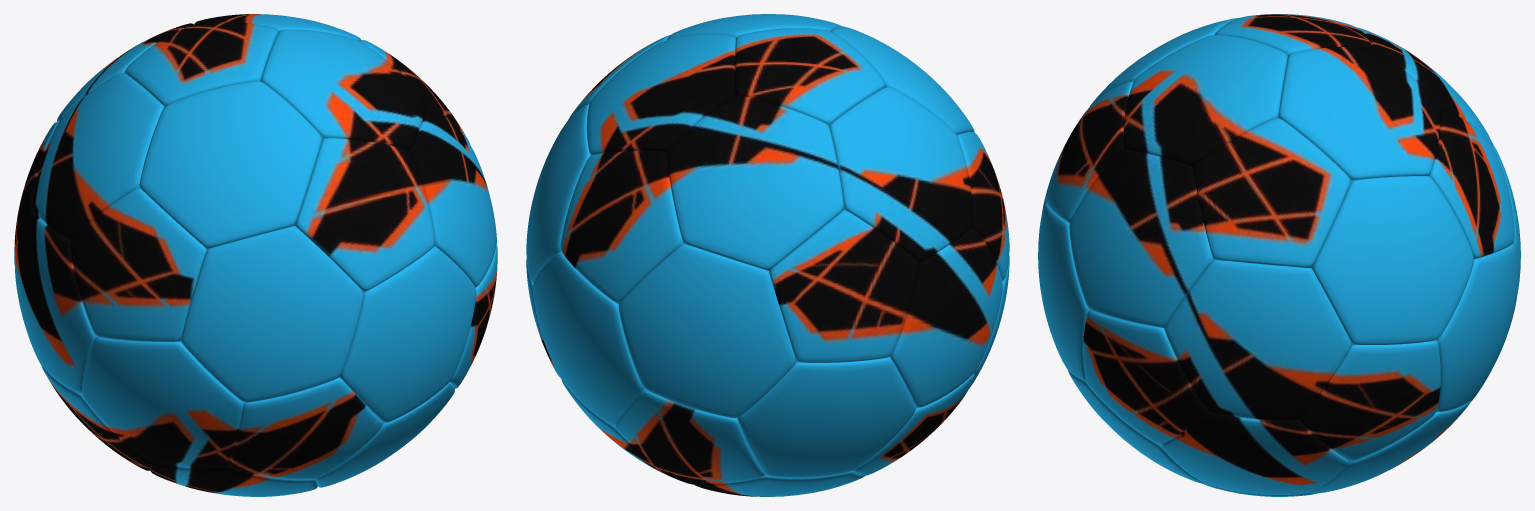
The model's file is BlueBall.glb.
The picture shows the model from 3 angles, left to right: view 1: azimuth 30°, elevation 25°; view 2: azimuth 150°, elevation 25°; view 3: azimuth 270°, elevation 25°; orthographic projection.
Visible parts, largest first — view 1: soccer_ball; view 2: soccer_ball; view 3: soccer_ball.
Boxes of the visible parts, x1,y1,x2,y2 form: soccer_ball: (14,14,497,496); soccer_ball: (526,14,1009,496); soccer_ball: (1038,14,1520,496).
Size of the model in its own units: 0.0913 by 0.0914 by 0.0914.
Materials: 1 (1 with a texture image).
